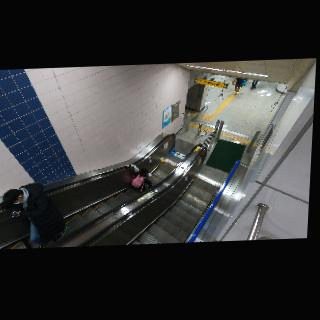anomaly: (121, 160, 156, 195)
normal: (0, 185, 71, 250), (233, 75, 247, 95)
